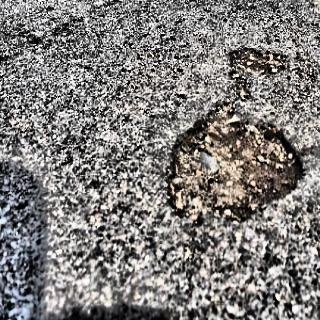pothole: (154, 88, 308, 236), (224, 34, 290, 82)
